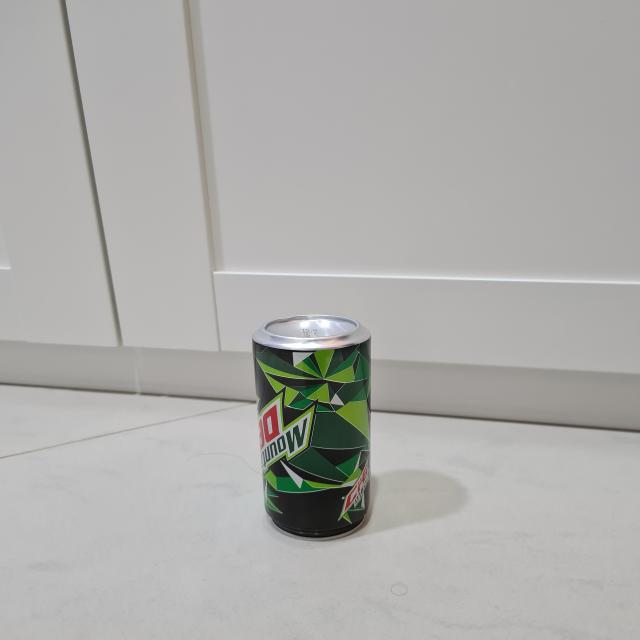non-organic waste: (251, 312, 379, 540)
